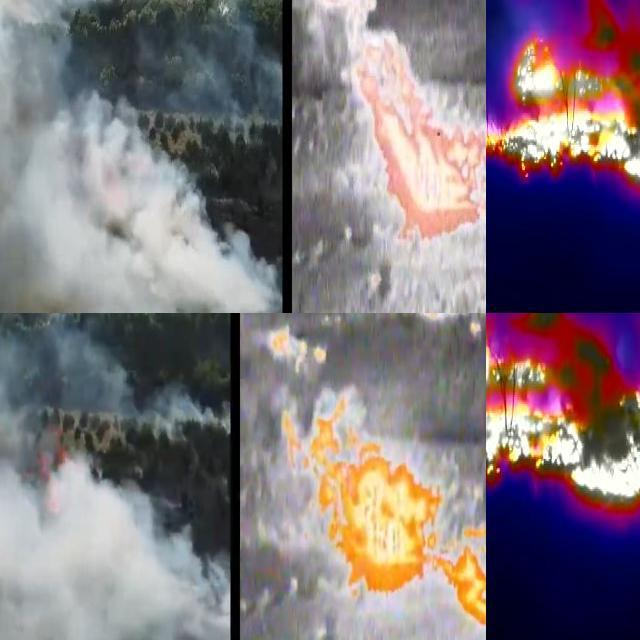fire: (282, 393, 443, 595), (487, 317, 640, 518), (353, 32, 487, 244), (487, 29, 640, 199), (442, 444, 487, 640), (269, 323, 329, 373), (316, 1, 378, 20)
